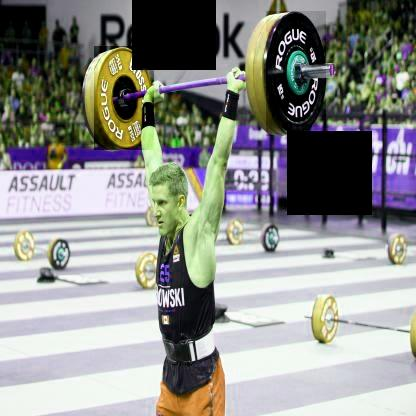barbell: (267, 12, 327, 137), (96, 46, 156, 151)
